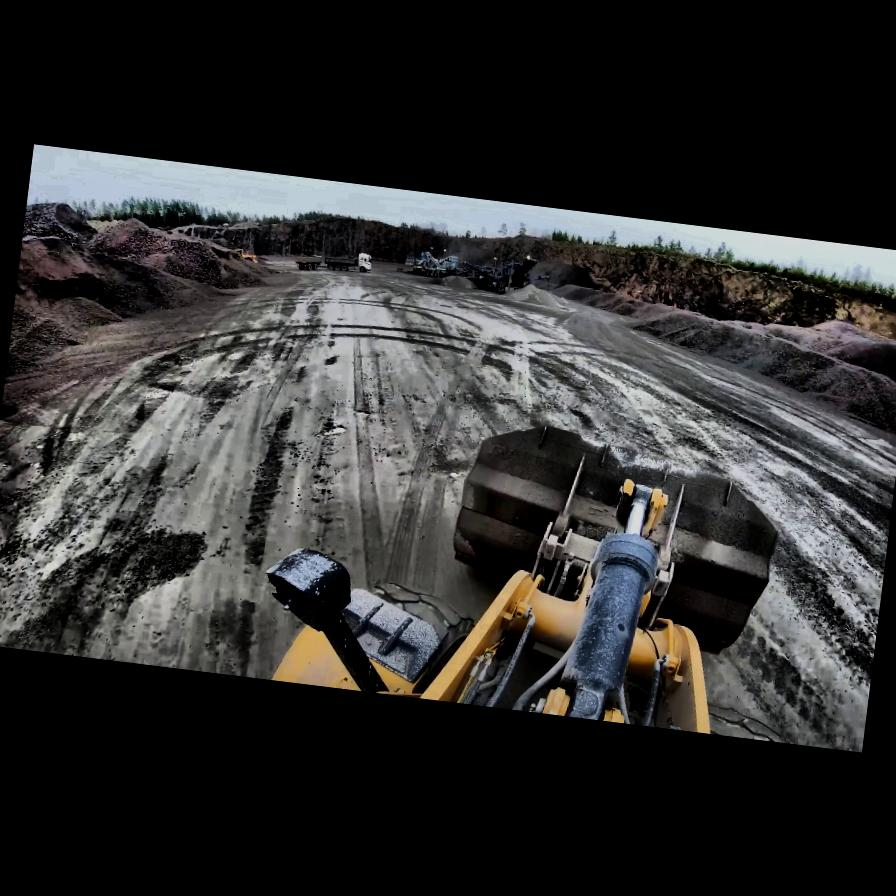anchor: (612, 476, 671, 542)
pile of gravel: (8, 200, 289, 386), (613, 303, 896, 438), (553, 282, 896, 379), (499, 280, 572, 309)
